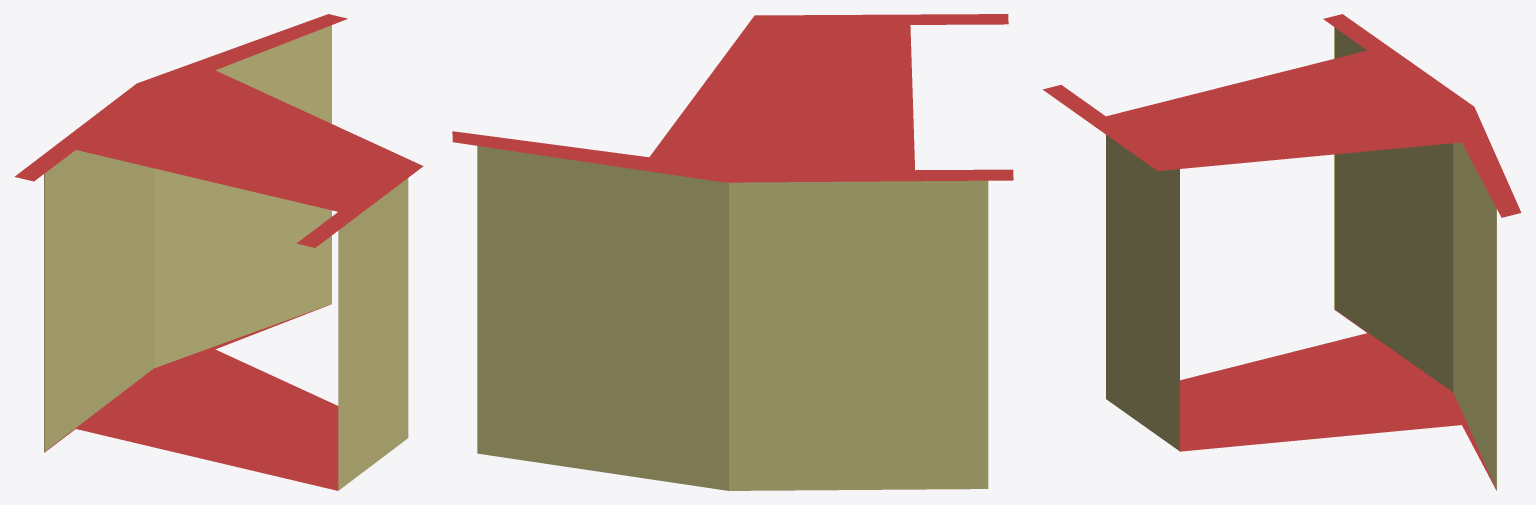
The picture shows the model from 3 angles, left to right: view 1: azimuth 30°, elevation 25°; view 2: azimuth 150°, elevation 25°; view 3: azimuth 270°, elevation 25°; orthographic projection. The views are drawn at different scales.
Size of the model in its own units: 10.96 by 10.89 by 7.09.
